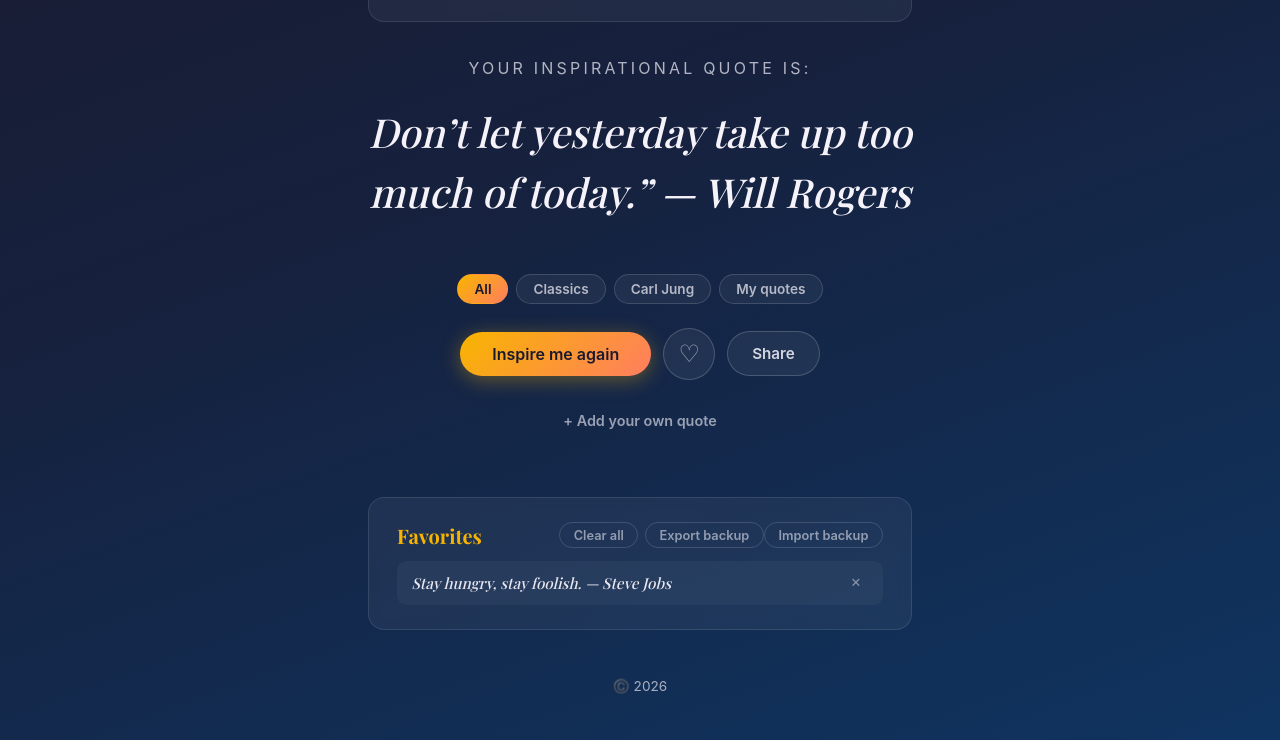
Scenario: Get Inspired smoke: core flows › removes a favorite via the ✕ button (regression: silent no-op)
(page scrolled)
Expected: the text "Stay hungry, stay foolish. — Steve Jobs" is shown, [411,573,671,593]
Step 1. Click the button named "remove quote: stay hungry" → (856, 583), box [843,570,869,596]
(page scrolled)
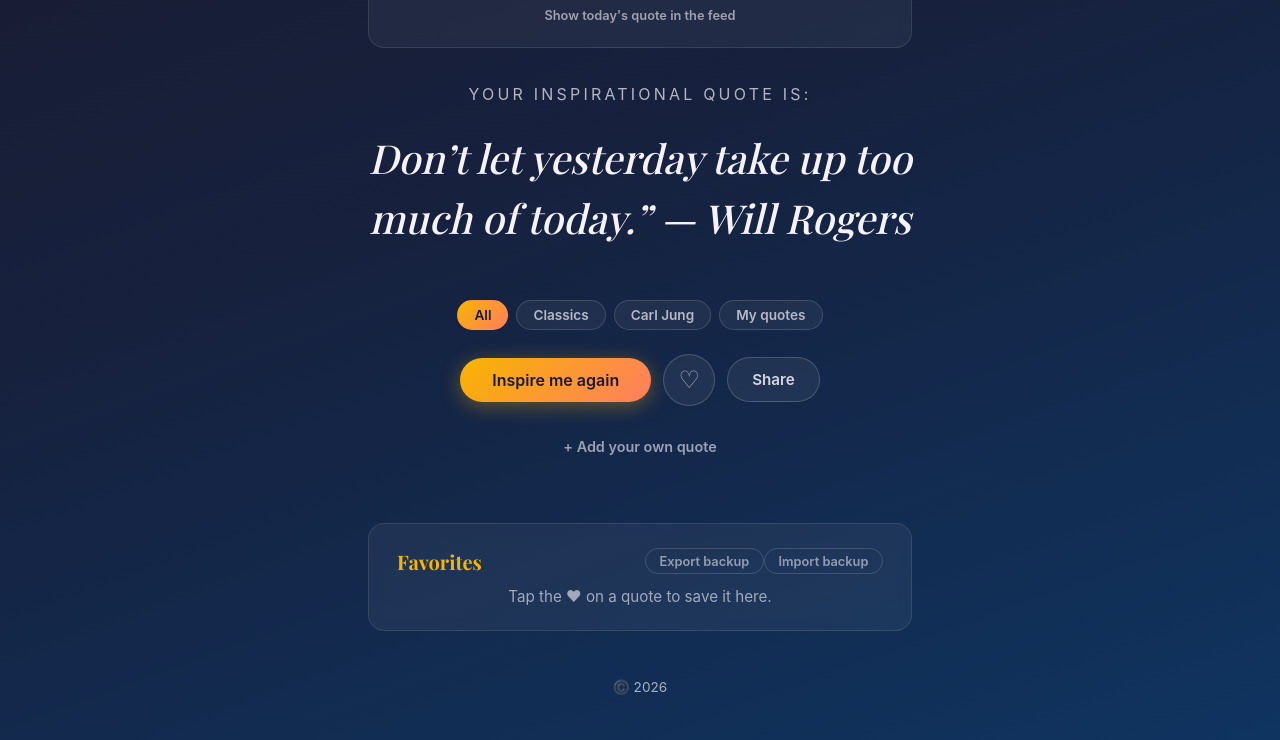
Expected: the text "Tap the ♥ on a quote to save it here." is shown, [508,586,772,606]
